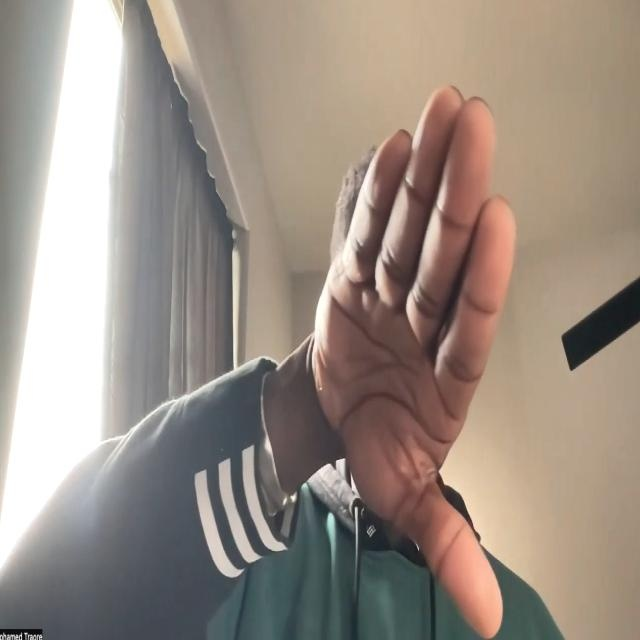Paper: (310, 80, 514, 640)
